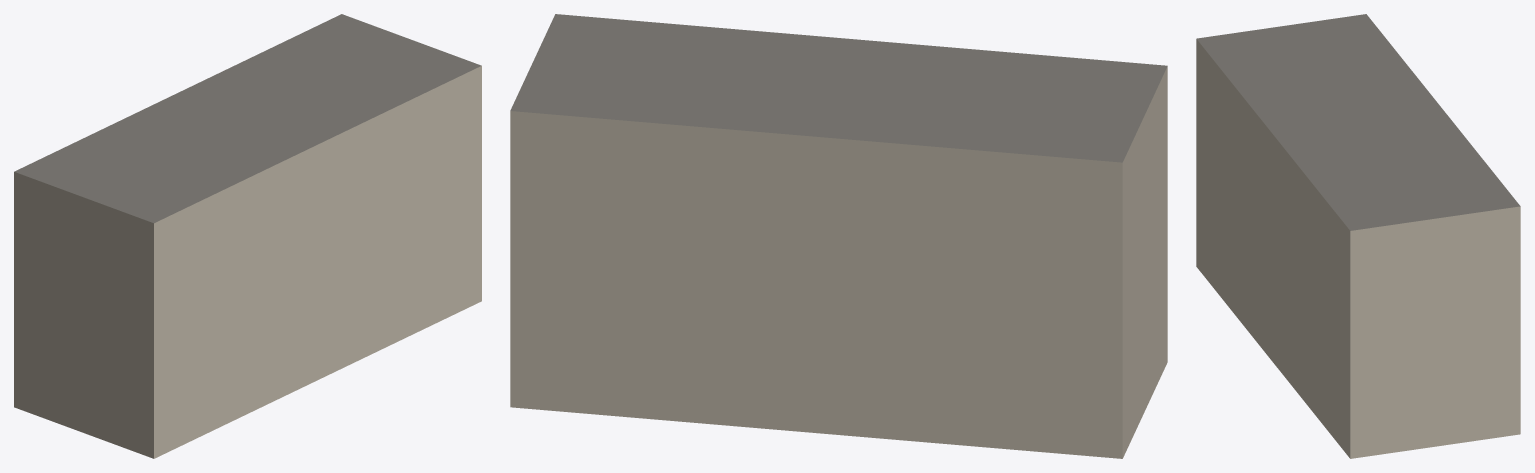
The picture shows the model from 3 angles, left to right: view 1: azimuth 30°, elevation 25°; view 2: azimuth 150°, elevation 25°; view 3: azimuth 270°, elevation 25°; orthographic projection. The views are drawn at different scales.
Visible parts, largest first — view 1: HP-w1287260182; view 2: HP-w1287260182; view 3: HP-w1287260182.
Boxes of the visible parts, bbox=[...] form: HP-w1287260182: bbox=[14, 14, 481, 458]; HP-w1287260182: bbox=[510, 14, 1167, 458]; HP-w1287260182: bbox=[1196, 14, 1520, 458].
Bounding box in the file's own units: 36.73 × 18 × 23.21.
